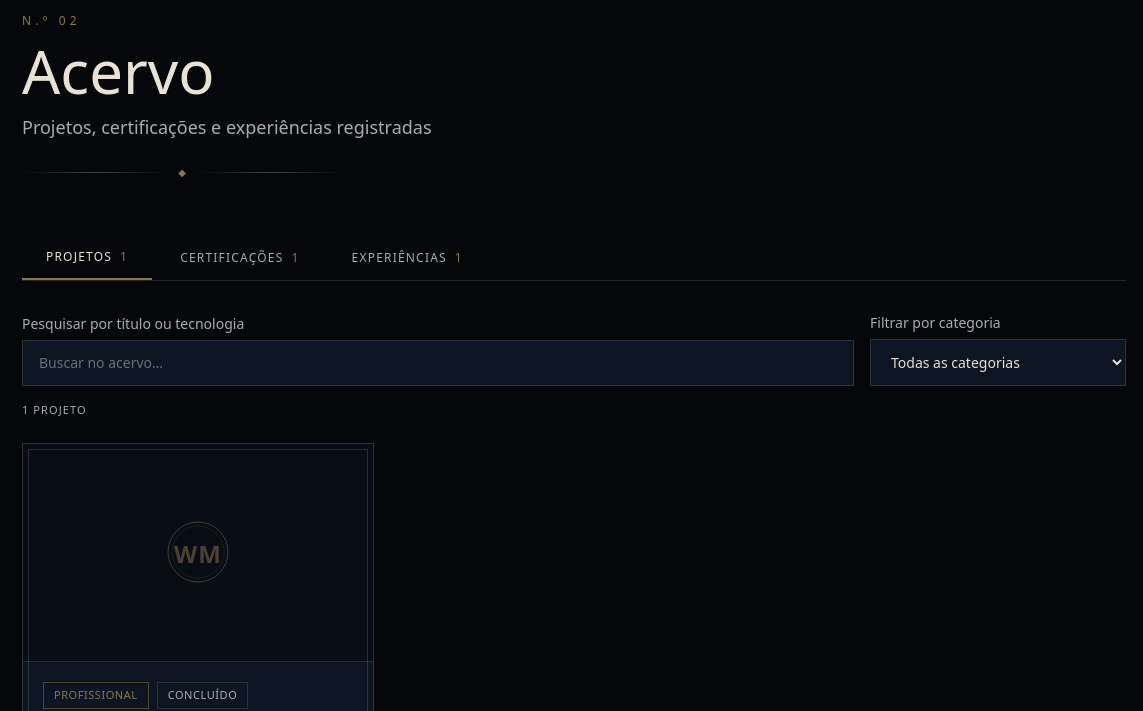
Test: ArchiveSection tabs › switches to experiences
Click the tab "Experiências1".
click(407, 258)  # box 328,236 -> 487,280
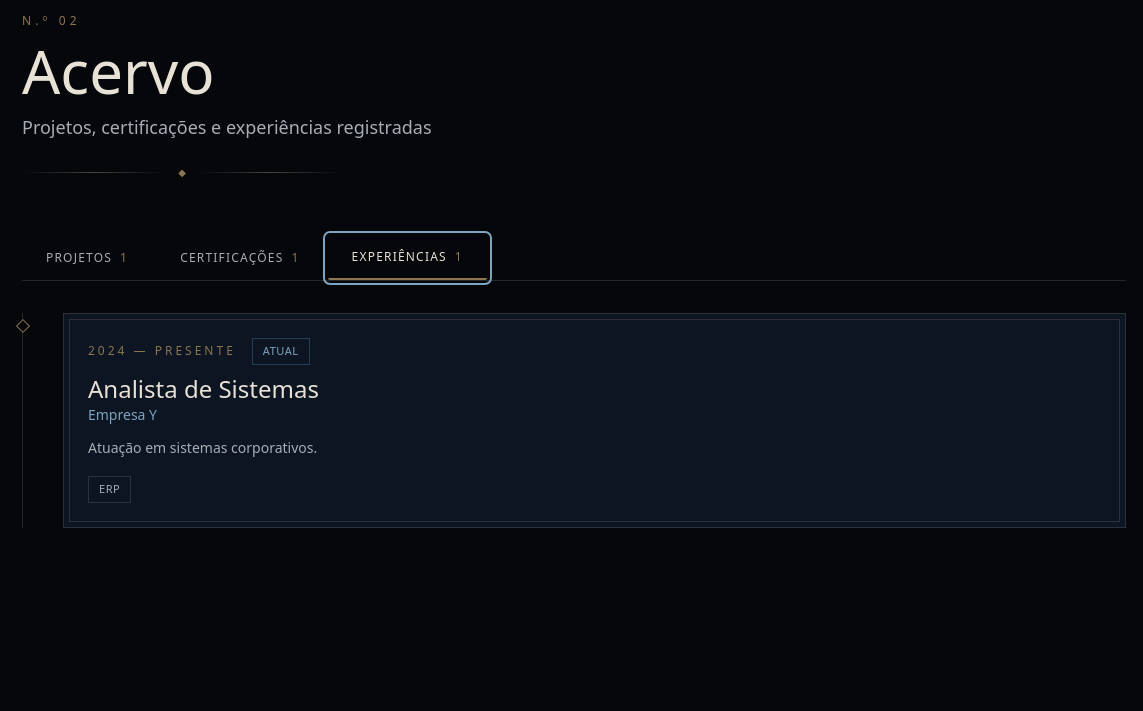
Result: the heading "Analista de Sistemas" is shown at 88,372 -> 319,404
